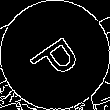P_NE: (24, 25, 86, 85)
